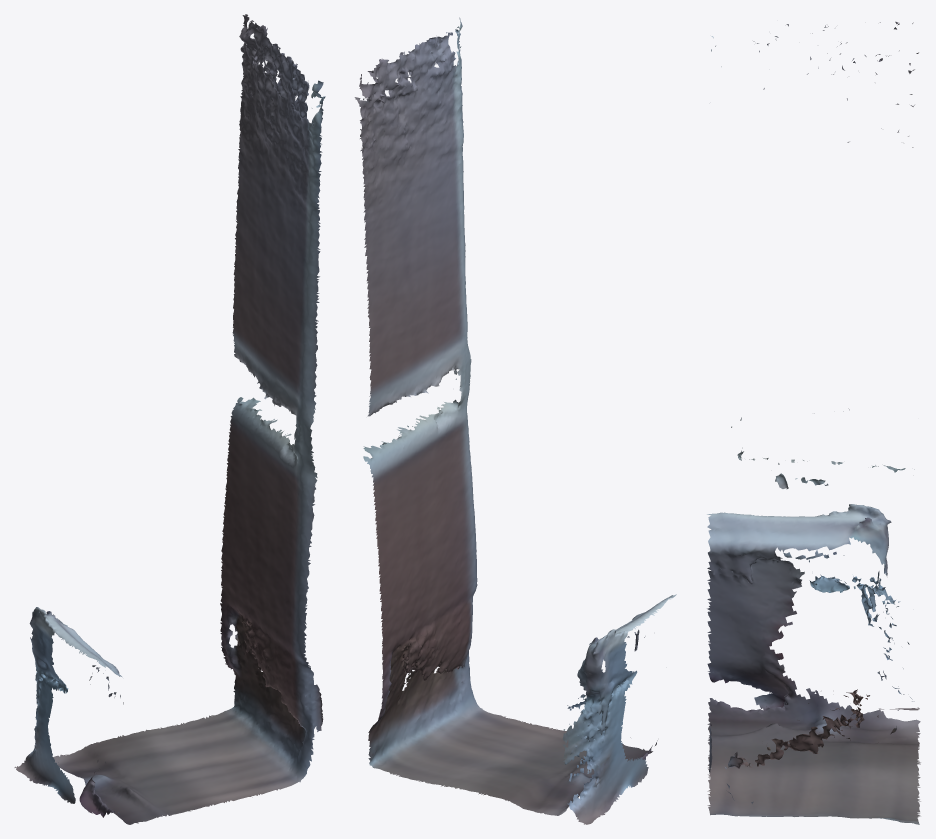
The model's file is apartment-full-52-79ecc228e070.glb.
3 views of the same model, side by side, from view 1: azimuth 30°, elevation 25°; view 2: azimuth 150°, elevation 25°; view 3: azimuth 270°, elevation 25° (orthographic). The views are drawn at different scales.
Size of the model in its own units: 0.759 by 2.18 by 0.509.
